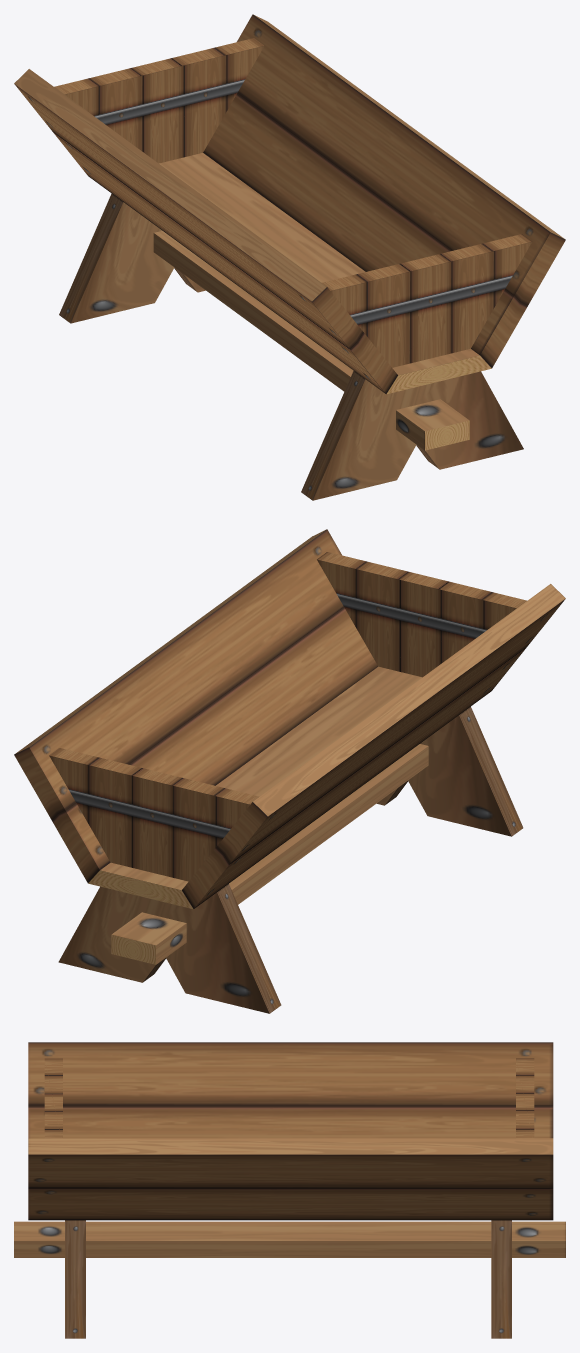
The model's file is Tank_03.FBX.
The picture shows the model from 3 angles, top to bottom: view 1: azimuth 30°, elevation 25°; view 2: azimuth 150°, elevation 25°; view 3: azimuth 270°, elevation 25°; orthographic projection. The views are drawn at different scales.
Parts seen in each view (by area): view 1: Tank_03; view 2: Tank_03; view 3: Tank_03.
Boxes of the visible parts, x1,y1,x2,y2 form: Tank_03: (14, 14, 565, 500); Tank_03: (14, 529, 565, 1013); Tank_03: (14, 1042, 565, 1338).
Size of the model in its own units: 0.9898 by 0.8593 by 2.12.
